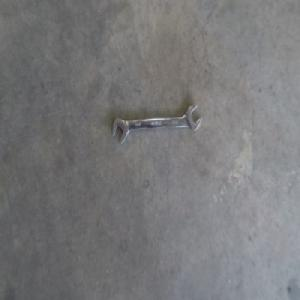Wrench: (110, 107, 204, 149)
